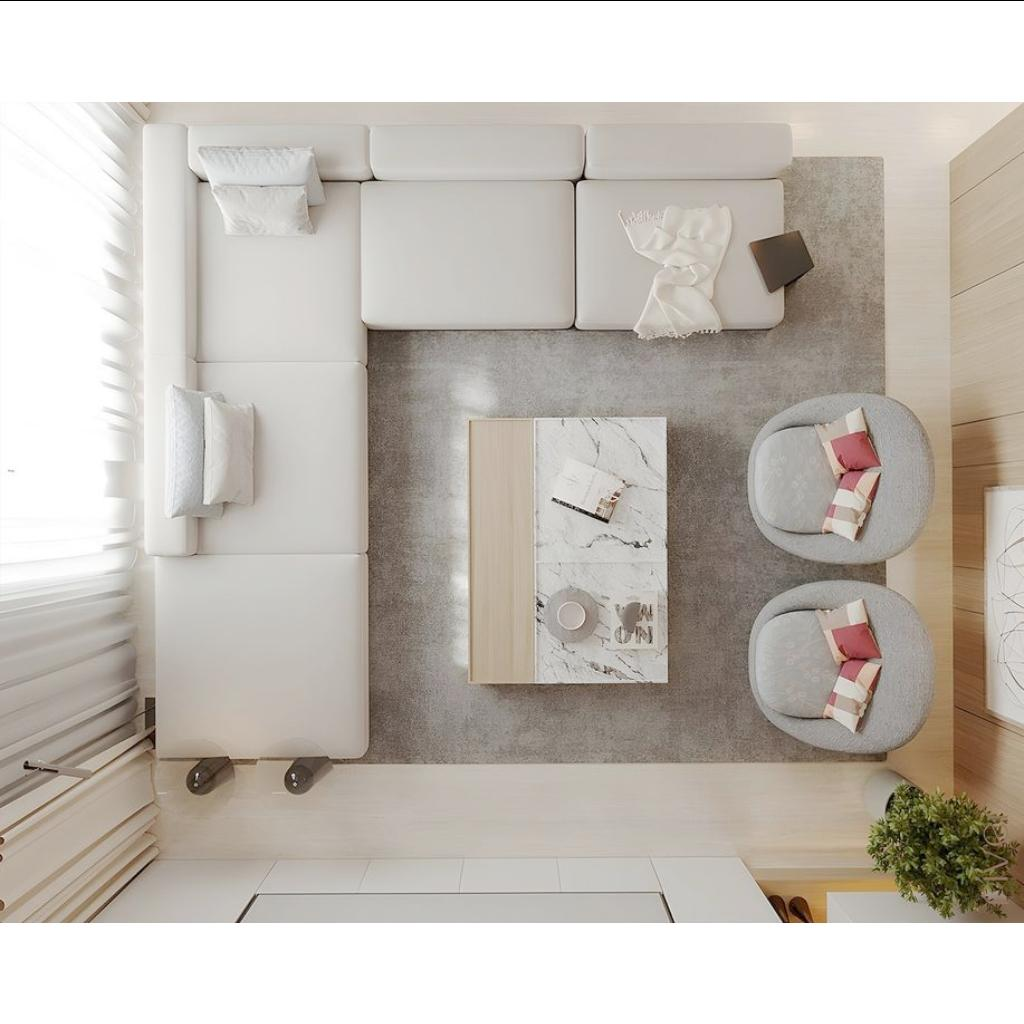TV stand: (234, 855, 738, 921)
chair: (745, 579, 935, 755), (749, 390, 937, 560)
coffee table: (470, 416, 666, 682)
floor lamp: (114, 704, 146, 744)
floor plant: (864, 772, 940, 858)
ottoman: (156, 558, 366, 758)
rug: (152, 155, 886, 765)
sofa: (146, 121, 364, 551), (370, 123, 788, 325)
window: (2, 102, 26, 804)
